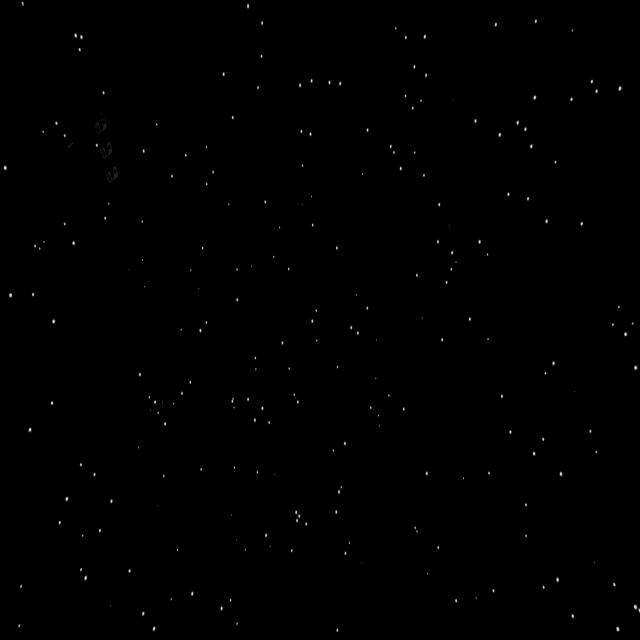satellite: (51, 100, 167, 180)
